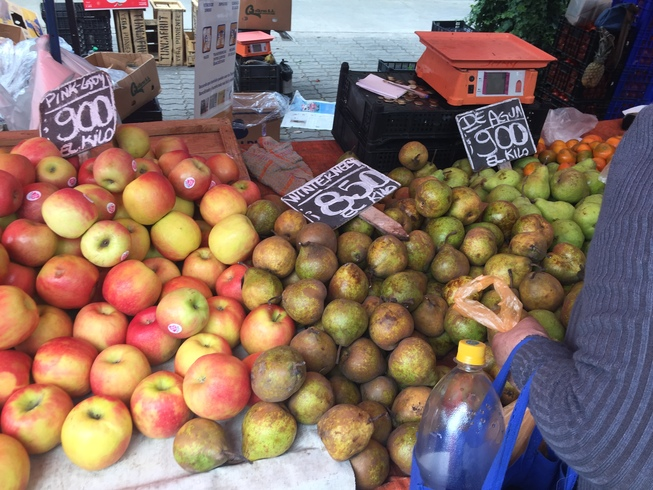precio: (277, 149, 409, 242), (34, 75, 132, 159), (450, 97, 545, 177)
